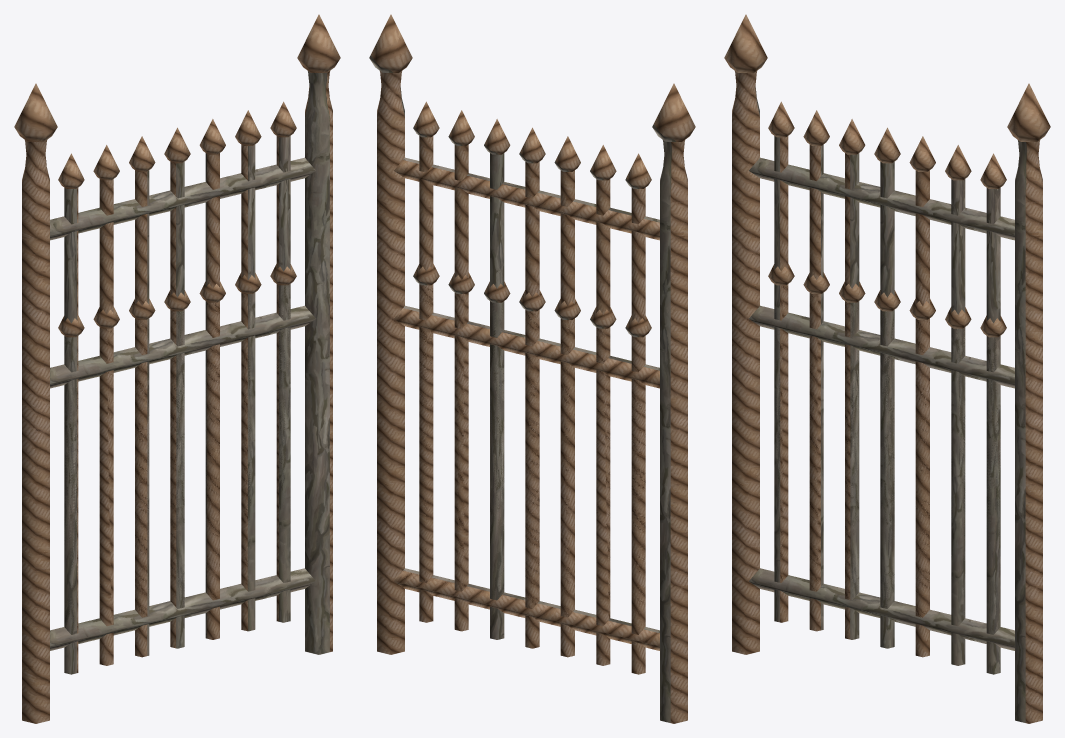
Rendered from MineGate.fbx.
3 views of the same model, side by side, from view 1: azimuth 30°, elevation 25°; view 2: azimuth 150°, elevation 25°; view 3: azimuth 330°, elevation 25° (orthographic).
Visible parts, largest first — view 1: GateSides, Gate; view 2: GateSides, Gate; view 3: GateSides, Gate.
Boxes of the visible parts, x1,y1,x2,y2 form: GateSides: (14, 14, 340, 723); Gate: (50, 264, 315, 646); GateSides: (369, 14, 695, 723); Gate: (394, 264, 659, 646); GateSides: (724, 14, 1050, 723); Gate: (749, 264, 1014, 646).
Size of the model in its own units: 223 by 428 by 26.71.
